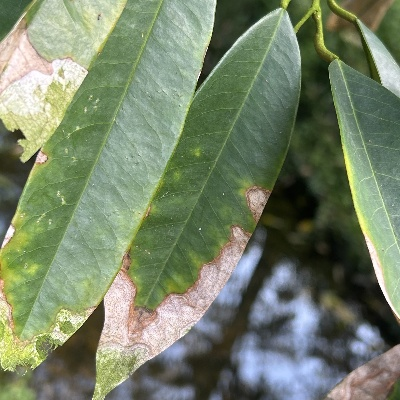Leaf_Colletotrichum: (0, 0, 303, 398)
